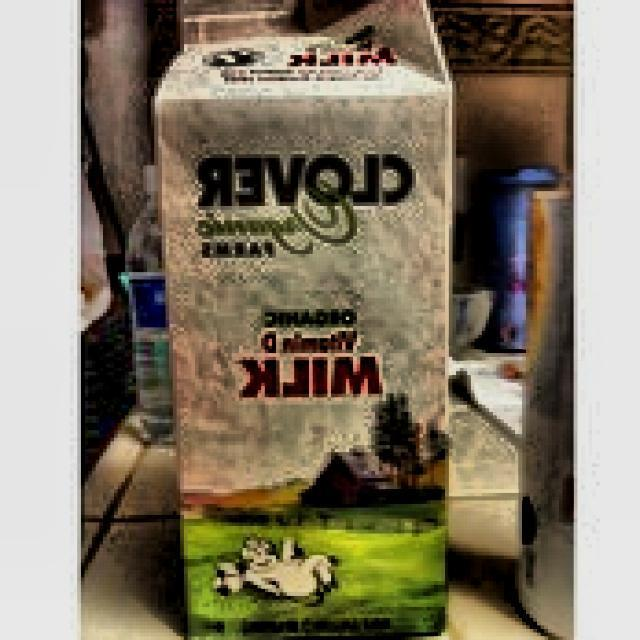cardboard: (154, 0, 460, 640)
